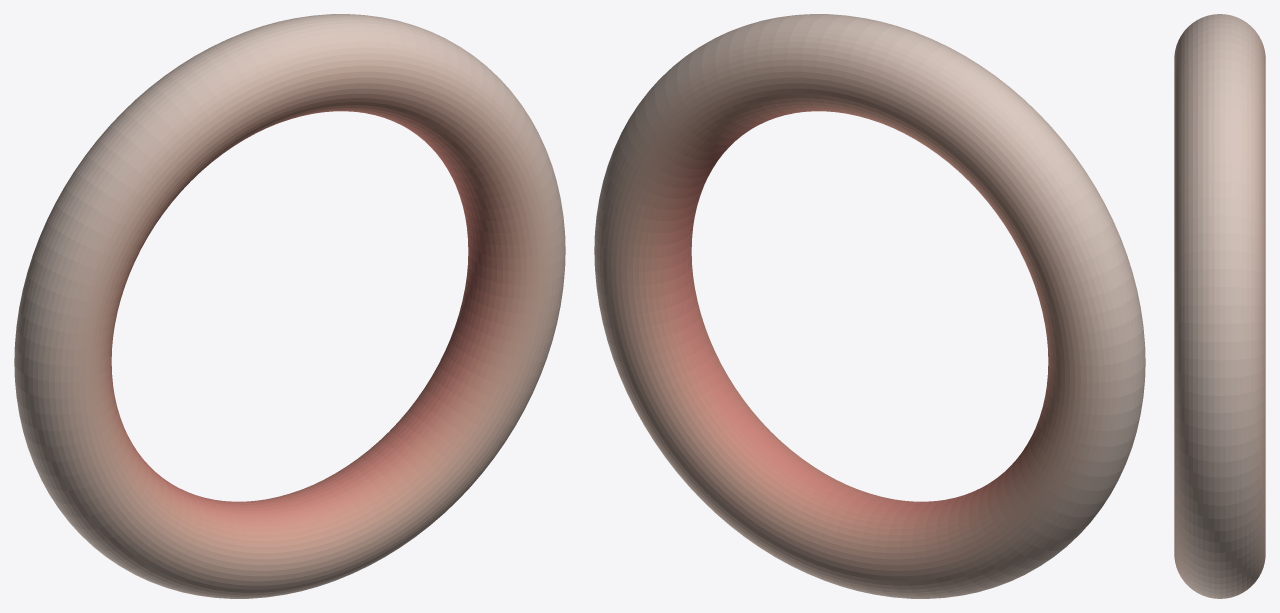
3 views of the same model, side by side, from view 1: azimuth 30°, elevation 25°; view 2: azimuth 150°, elevation 25°; view 3: azimuth 270°, elevation 25° (orthographic). The views are drawn at different scales.
Parts seen in each view (by area): view 1: world; view 2: world; view 3: world.
Boxes of the visible parts, box(x1,y1,x2,y2) form: world: box(14, 14, 565, 598); world: box(594, 14, 1145, 598); world: box(1174, 14, 1265, 598).
Bounding box in the file's own units: 33.2 × 33.2 × 5.19.
